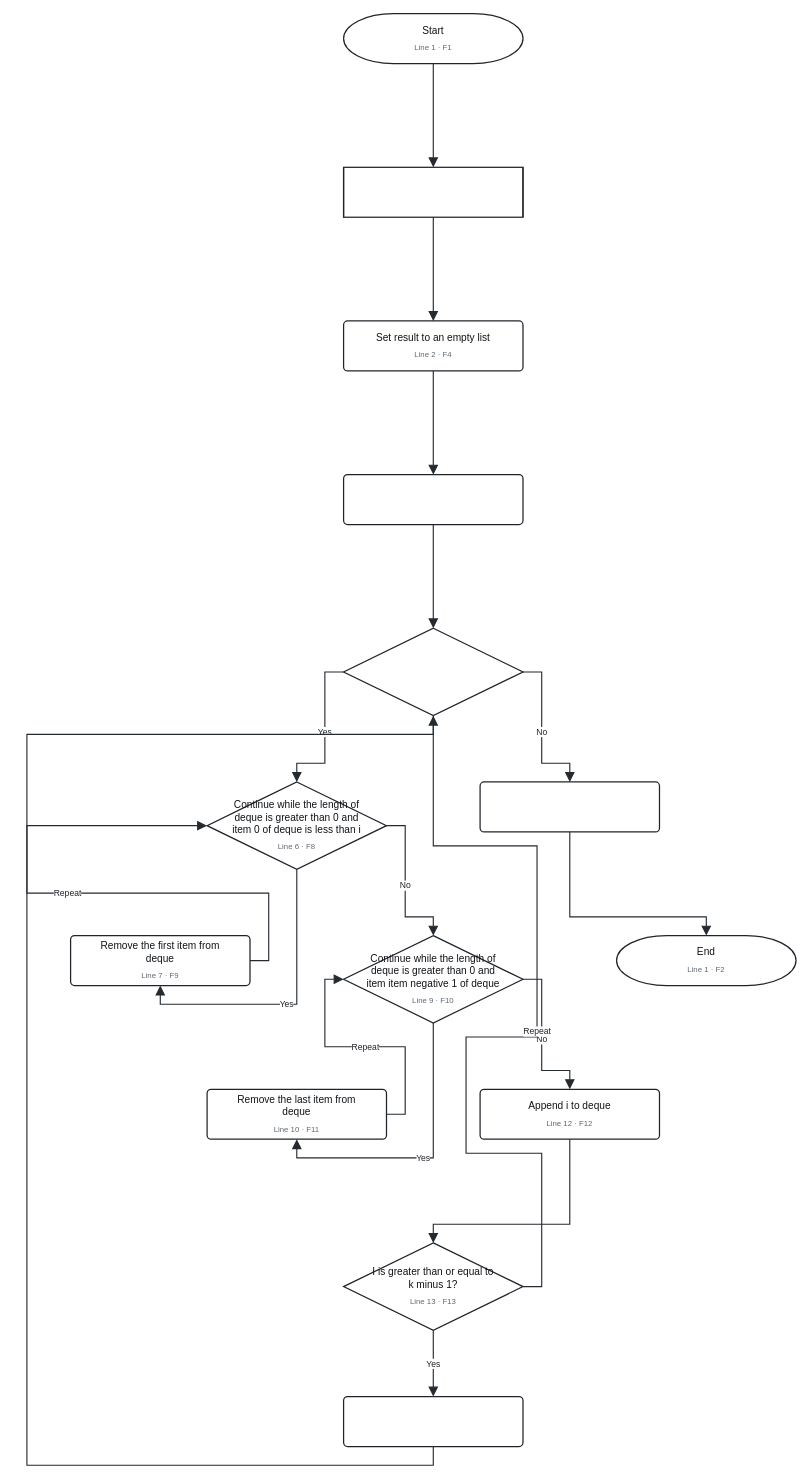
The diagram is 810 pixels wide and 1480 high, and some of its shapes have lost their labels. Each missing label, with the box of its shape:
Append item item 0 of deque of arr to result Line 14 · F14: (343, 1396, 523, 1447)
For i from 0 to the length of arr minus 1 plus 1 Line 5 · F7: (343, 627, 523, 716)
Return result Line 17 · F15: (479, 781, 660, 832)
Run function slidingWindowMax with arr, k Line 1 · F3: (343, 166, 523, 217)
Set deque to an empty list Line 3 · F5: (343, 474, 523, 525)
